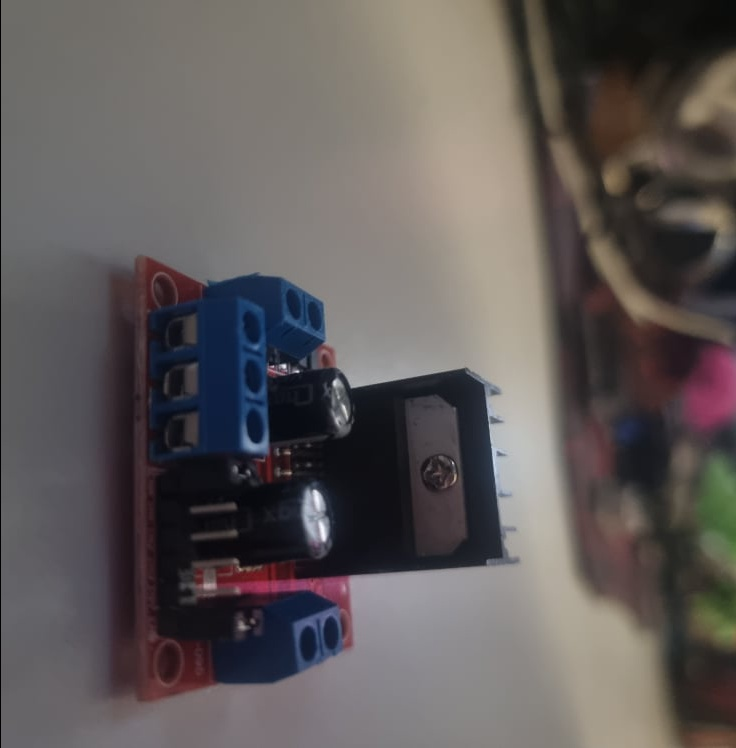MOTOR: (130, 253, 522, 700)
